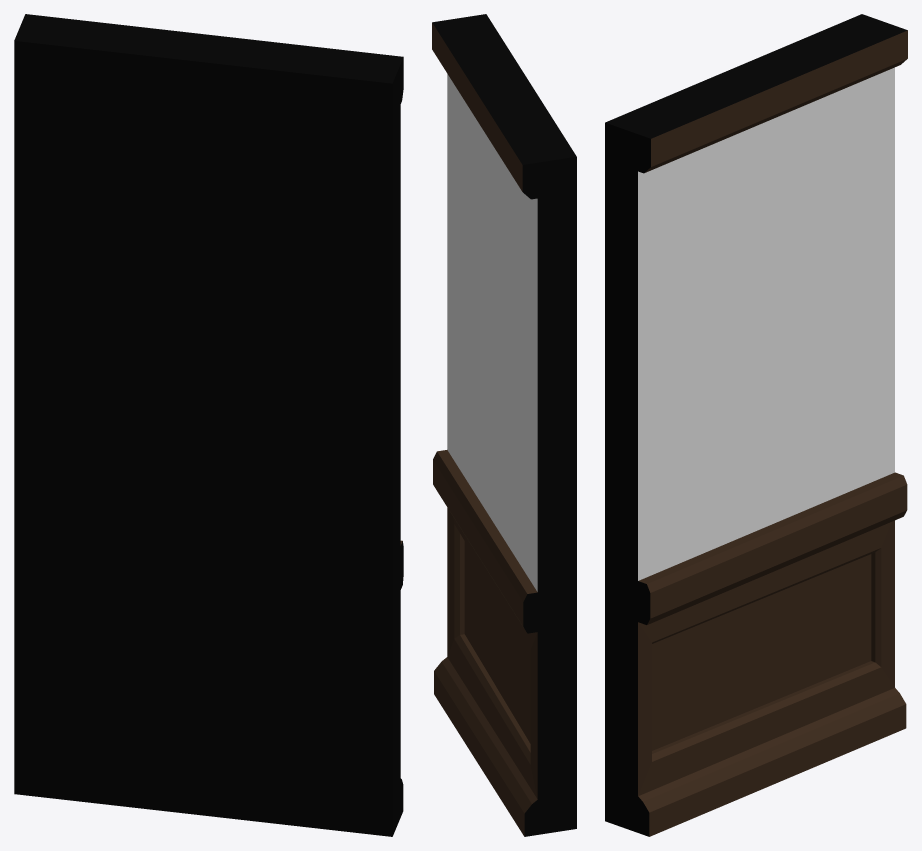
File: Wall_01_corner.fbx
3 views of the same model, side by side, from view 1: azimuth 30°, elevation 25°; view 2: azimuth 150°, elevation 25°; view 3: azimuth 270°, elevation 25° (orthographic). The views are drawn at different scales.
Parts seen in each view (by area): view 1: Cube.172; view 2: Cube.172; view 3: Cube.172.
Part boxes in pixels (bbox=[...]): Cube.172: bbox=[14, 14, 403, 836]; Cube.172: bbox=[432, 14, 576, 836]; Cube.172: bbox=[605, 14, 907, 836].
Size of the model in its own units: 1.18 by 1.15 by 3.
